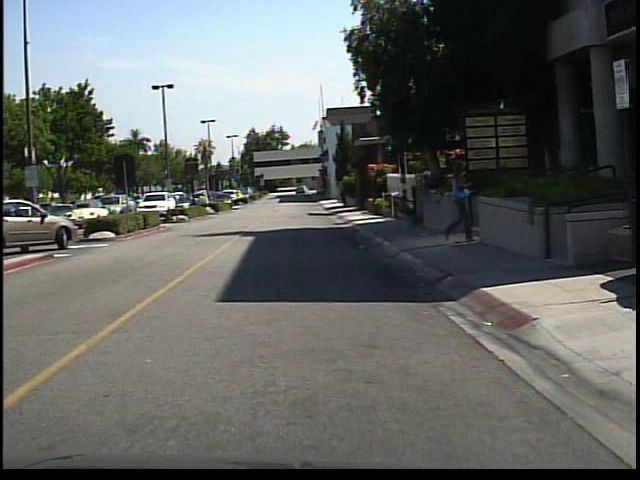person: (442, 153, 475, 251)
